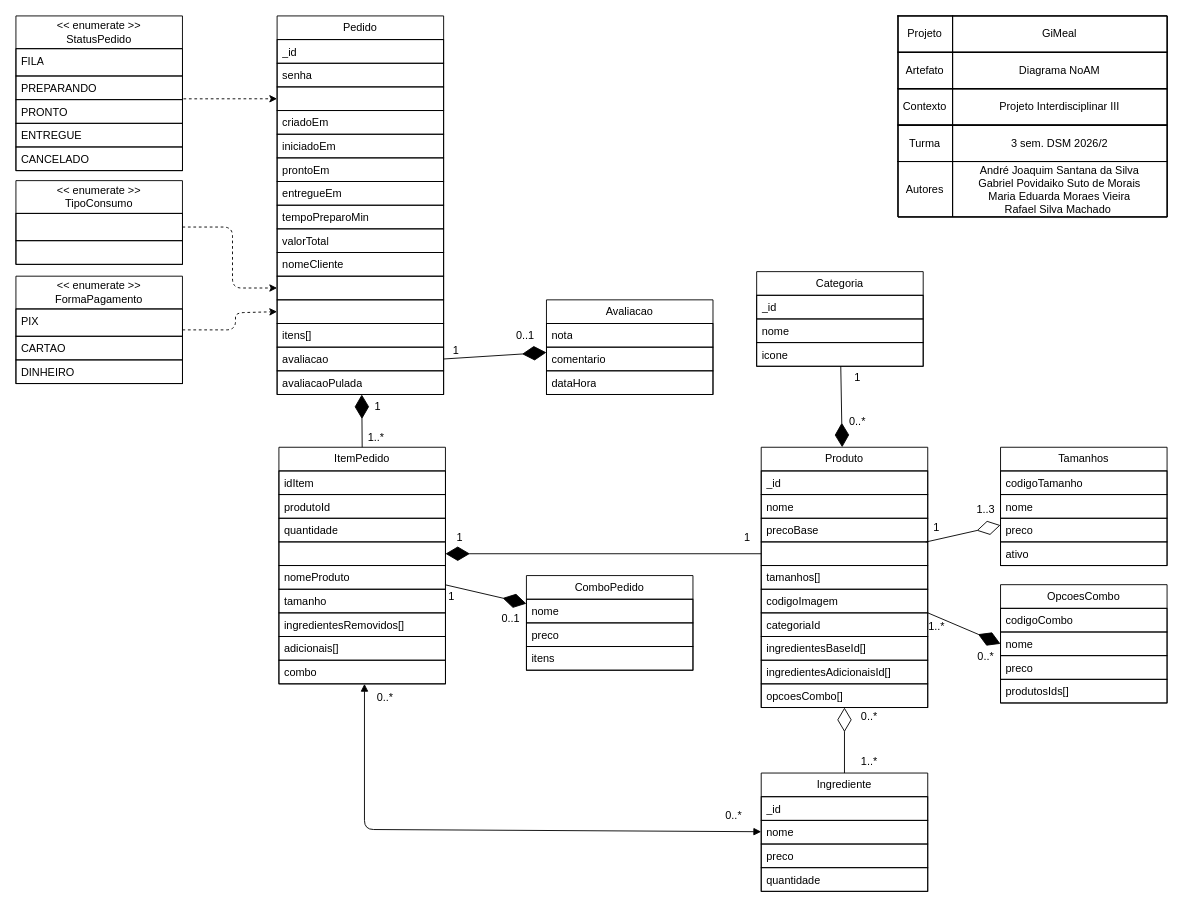
The diagram is 1184 pixels wide and 910 high, and some of its shapes have lost their labels. Here are the shapes that lost their labels. From the top down, the centre of each, then its label:
At pixel 360 98: "status".
At pixel 98 226: "LEVAR".
At pixel 98 252: "COMER_LOCAL".
At pixel 360 287: "tipoConsumo".
At pixel 360 311: "formaPagamento".
At pixel 361 553: "precoUnitario".
At pixel 844 553: "descricao".
